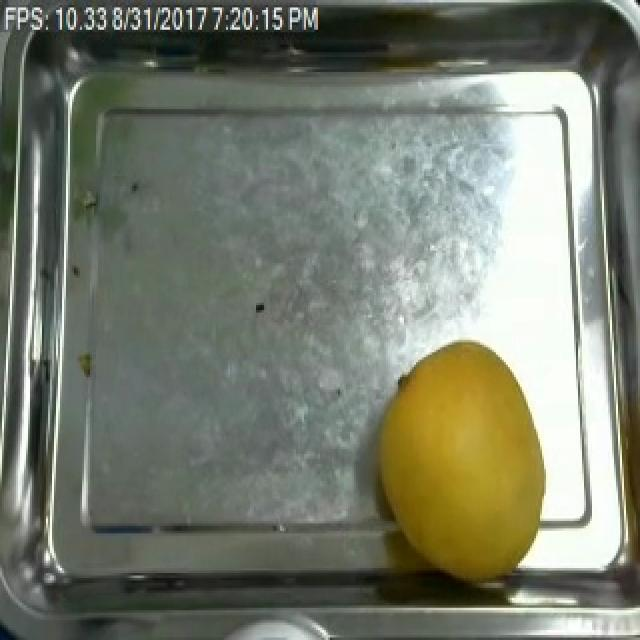fruit: (362, 332, 556, 598)
